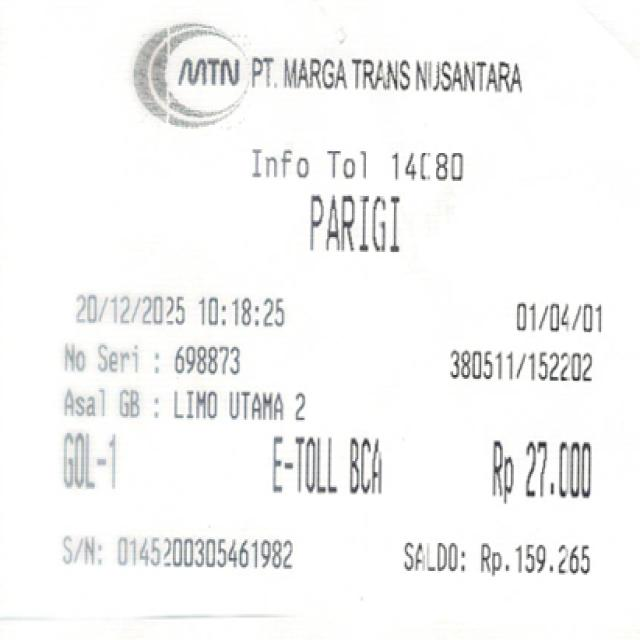date: (72, 286, 287, 338)
store: (232, 50, 538, 106)
total: (482, 428, 605, 508)
